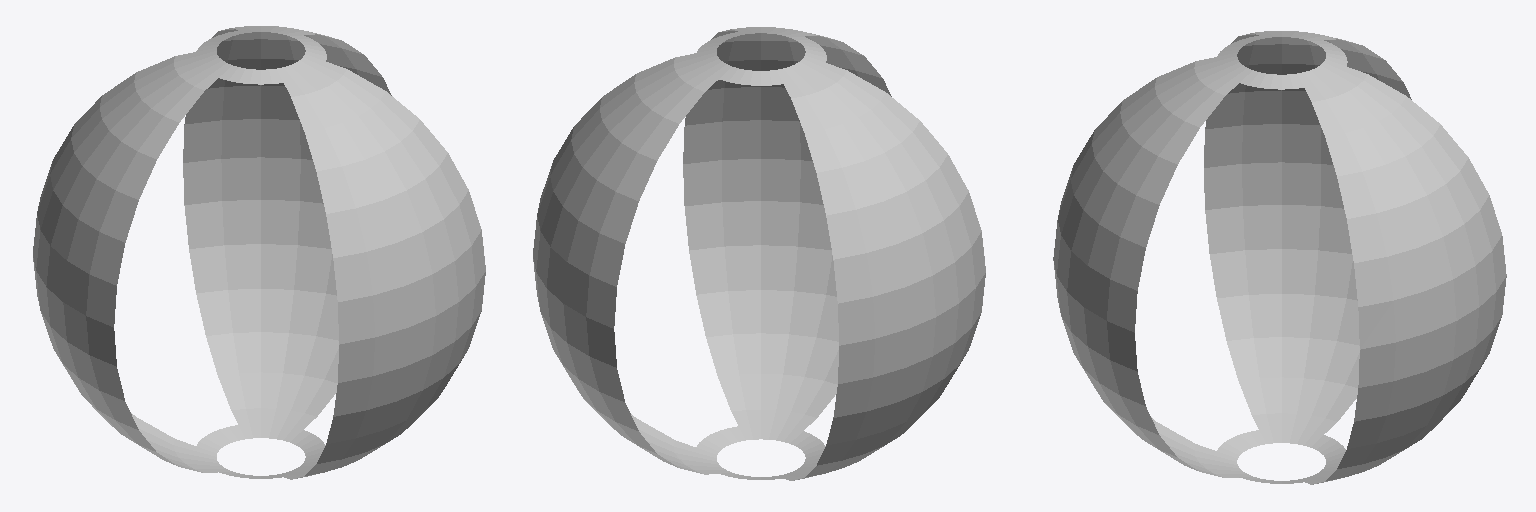
File: ParteBranco.obj
3 renders of one model, left to right at view 1: azimuth 30°, elevation 25°; view 2: azimuth 150°, elevation 25°; view 3: azimuth 270°, elevation 25°, orthographic.
Parts seen in each view (by area): view 1: BolaBranco; view 2: BolaBranco; view 3: BolaBranco.
Boxes of the visible parts, box(x1,y1,x2,y2) form: BolaBranco: box(33, 26, 485, 479); BolaBranco: box(533, 27, 985, 480); BolaBranco: box(1053, 31, 1506, 484).
Size of the model in its own units: 0.3081 by 0.3116 by 0.3153.